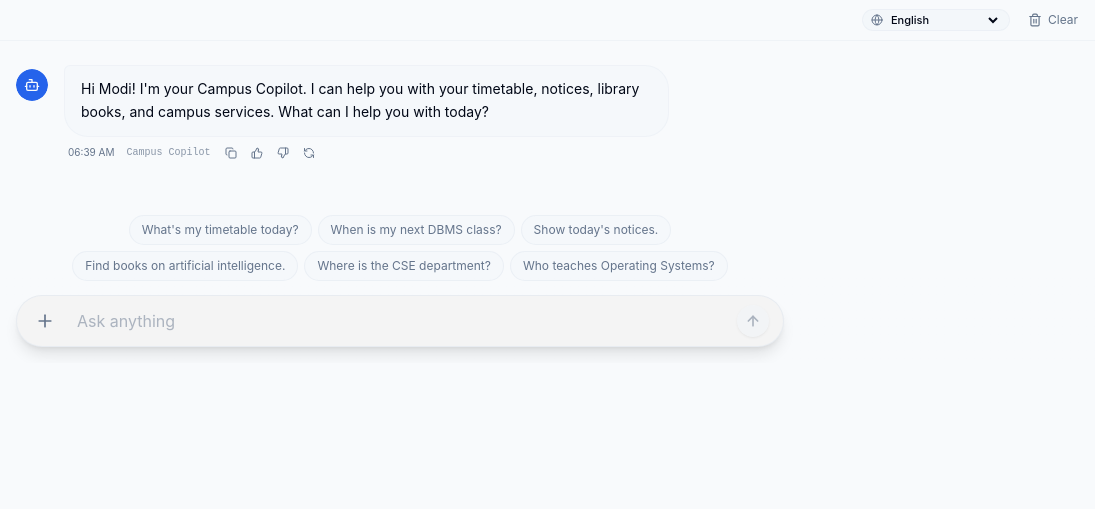
Test: CopilotPage › sends a question to the campus assistant and shows its answer with user initials
Type "When is my next class?" into the field named "Ask Campus Copilot" at (400, 320), box [69,308,731,332]
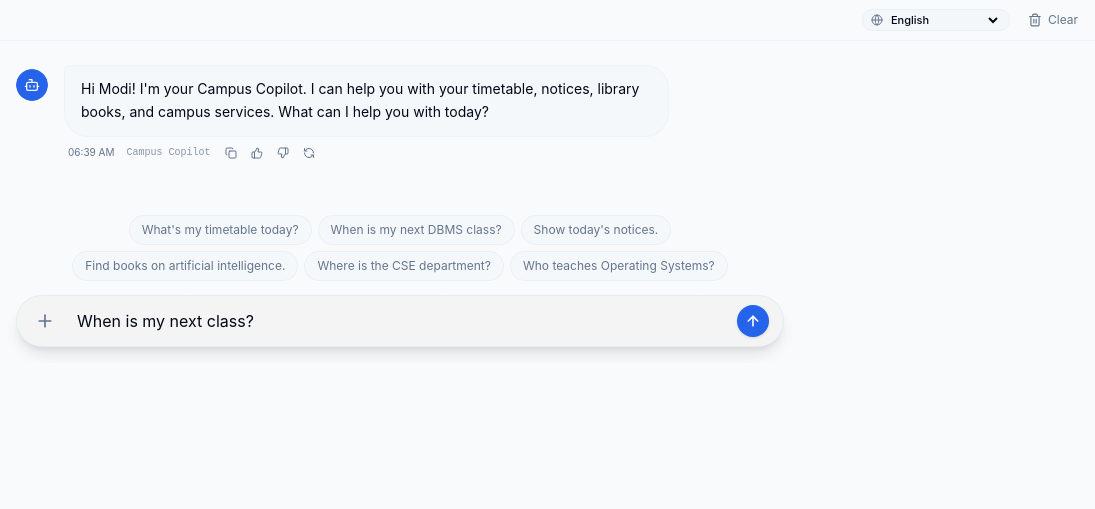
Click the button named "Send" at (753, 320), box [737,304,769,336]
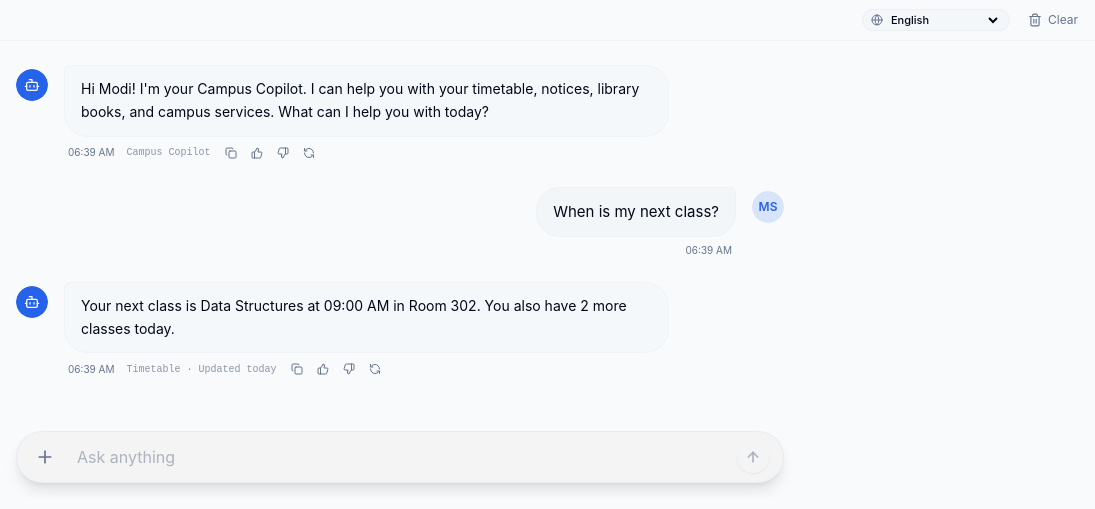
Expected: the text "MS" is shown, [752,190,784,222]
Result: the text "Your next class is Data Structures" is shown at [81,297,627,337]
Result: the text "Timetable · Updated today" is shown at [126,362,276,377]
